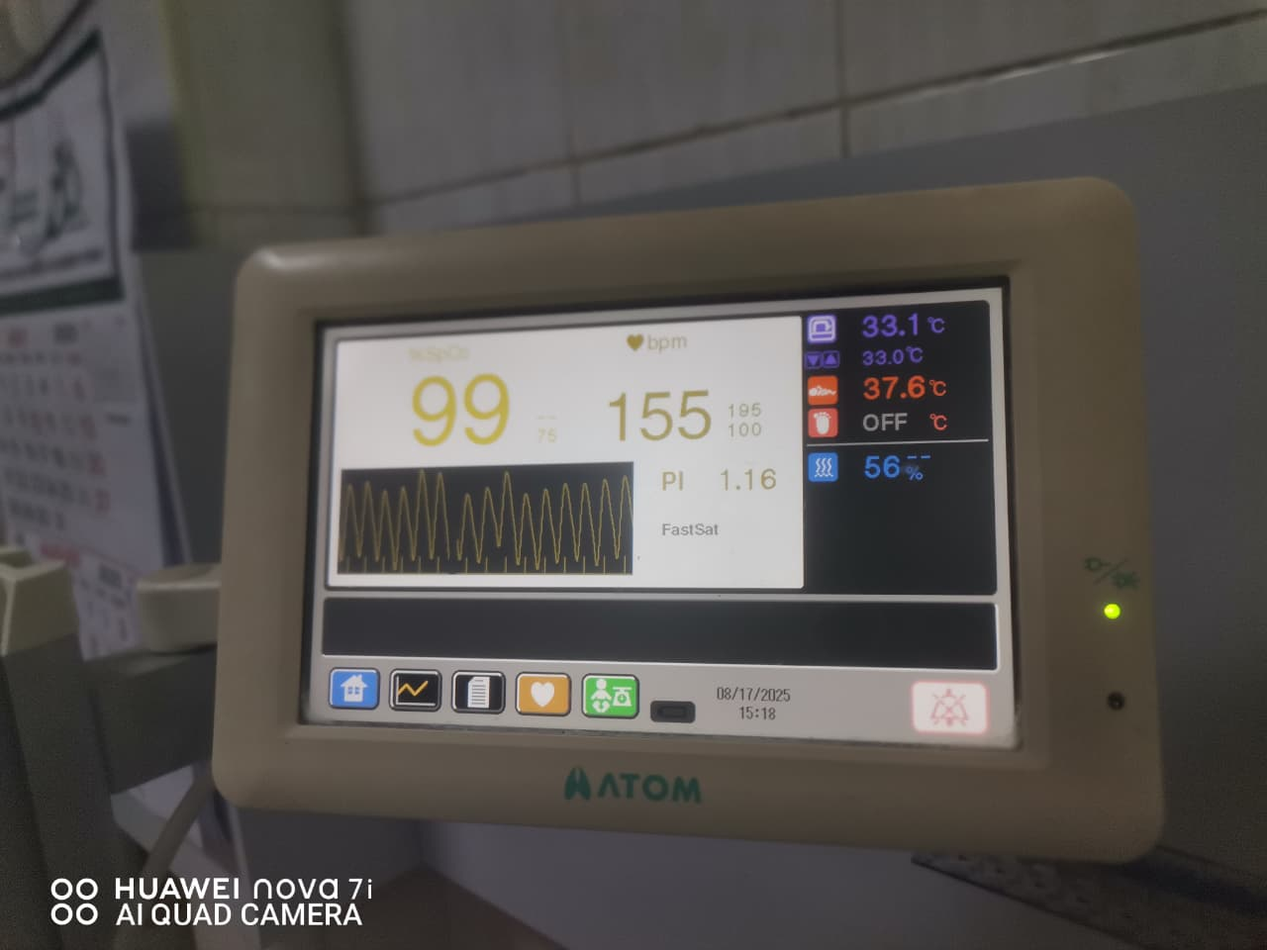air_temp_value: (846, 305, 930, 352)
heart_rate_value: (600, 381, 719, 450)
humidity_value: (845, 451, 905, 487)
skin_temp_value: (853, 366, 931, 405)
spo2_value: (400, 373, 522, 459)
